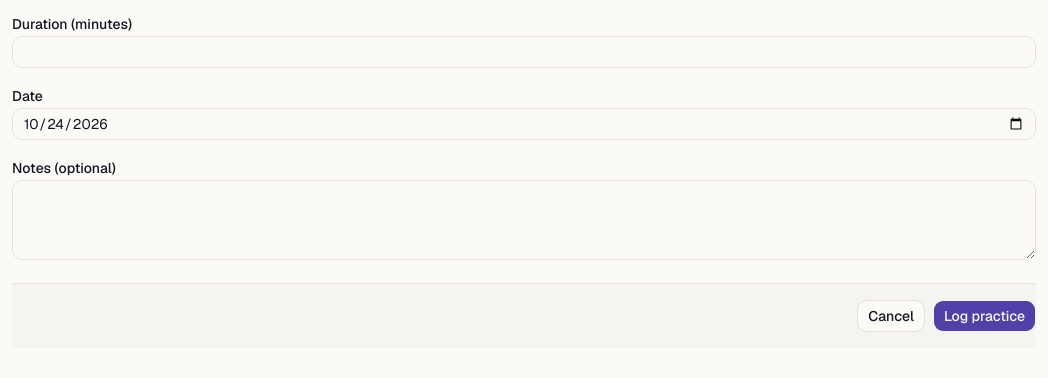
Test: SessionForm › rejects a duration of zero minutes
Step 1. Type "0" into the number field labelled "Duration (minutes)" → (524, 52), box top-left (12, 36), bottom-right (1036, 68)
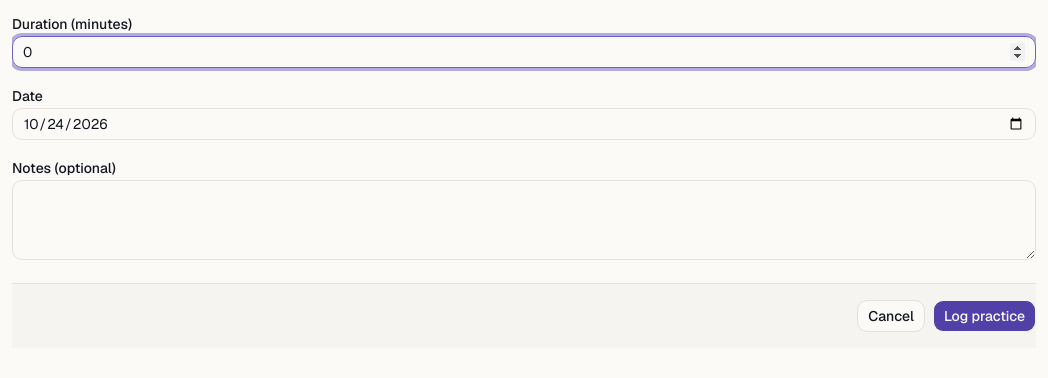
Step 2. Click the button "Log practice" → (984, 316), box top-left (933, 300), bottom-right (1036, 332)
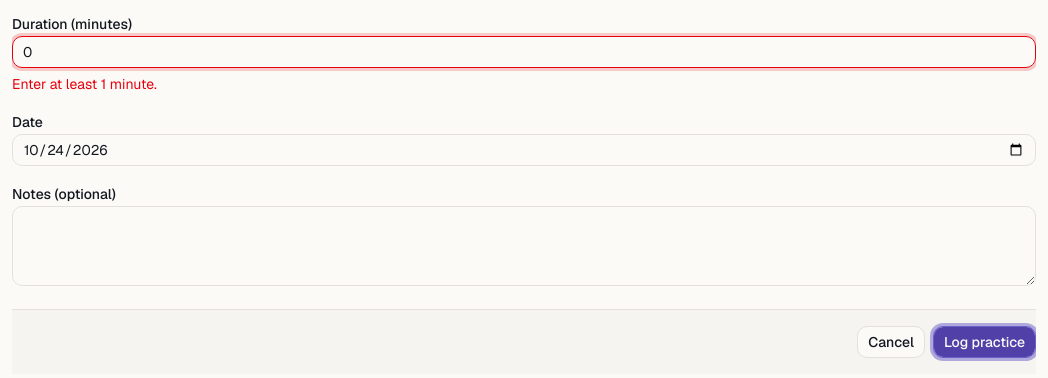
expect the text "Enter at least 1 minute." is shown: met, box top-left (12, 75), bottom-right (157, 93)
